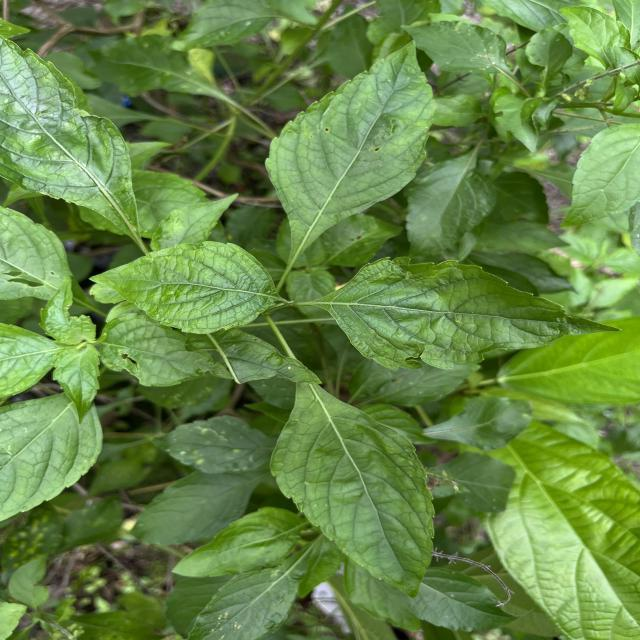Ocimum gratissimum: (260, 36, 438, 270), (267, 366, 438, 600), (315, 253, 624, 375), (0, 28, 148, 245), (84, 238, 286, 337), (0, 384, 106, 526), (398, 17, 528, 92), (556, 118, 640, 232)
